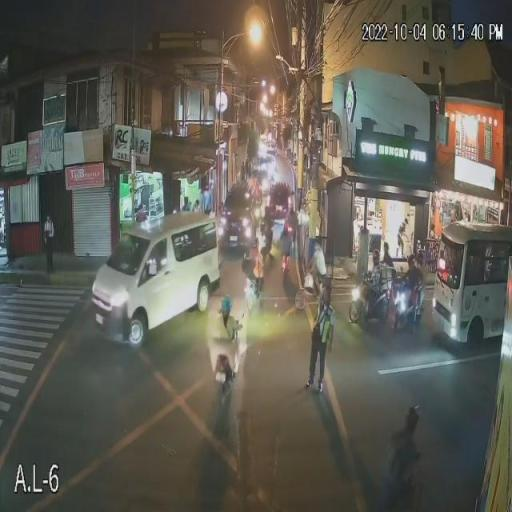helmet: (221, 296, 232, 316), (250, 237, 261, 252), (408, 256, 418, 271), (372, 251, 381, 266)
motorcycle: (348, 279, 390, 324), (393, 281, 425, 330), (212, 342, 234, 402)
rider: (216, 311, 238, 352), (248, 238, 262, 280), (405, 258, 420, 296), (369, 256, 382, 295), (263, 209, 274, 237)
